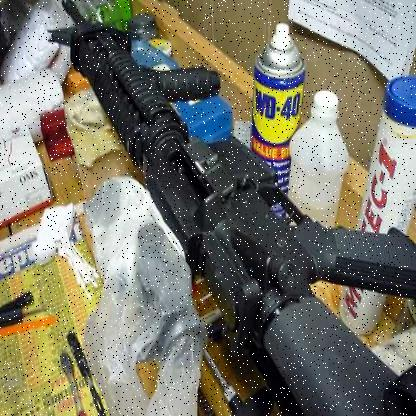rifle: (45, 0, 415, 415)
